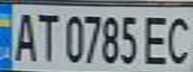0: (60, 10, 84, 64)
5: (118, 11, 142, 66)
7: (81, 11, 103, 65)
8: (100, 11, 121, 65)
A: (9, 8, 39, 62)
C: (163, 11, 193, 66)
E: (139, 11, 175, 66)
T: (33, 8, 60, 63)
